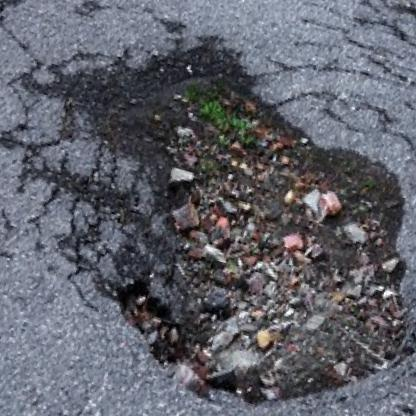pothole: (51, 10, 416, 410)
